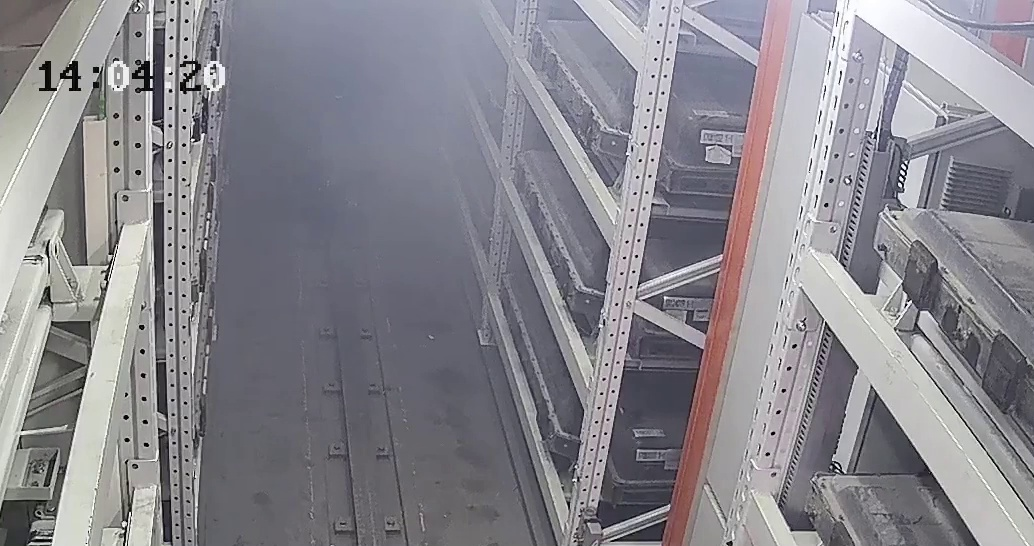smoke: (320, 17, 473, 248)
